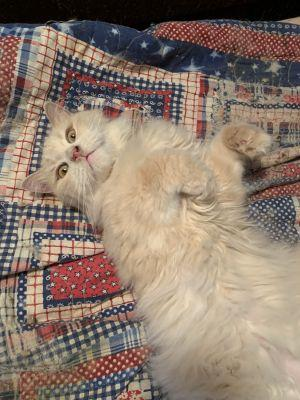persian: (20, 88, 131, 214)
